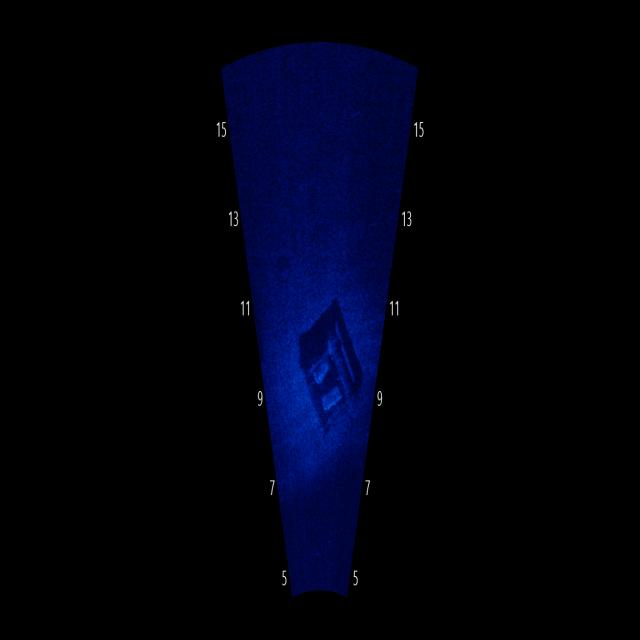square: (288, 276, 373, 440)
